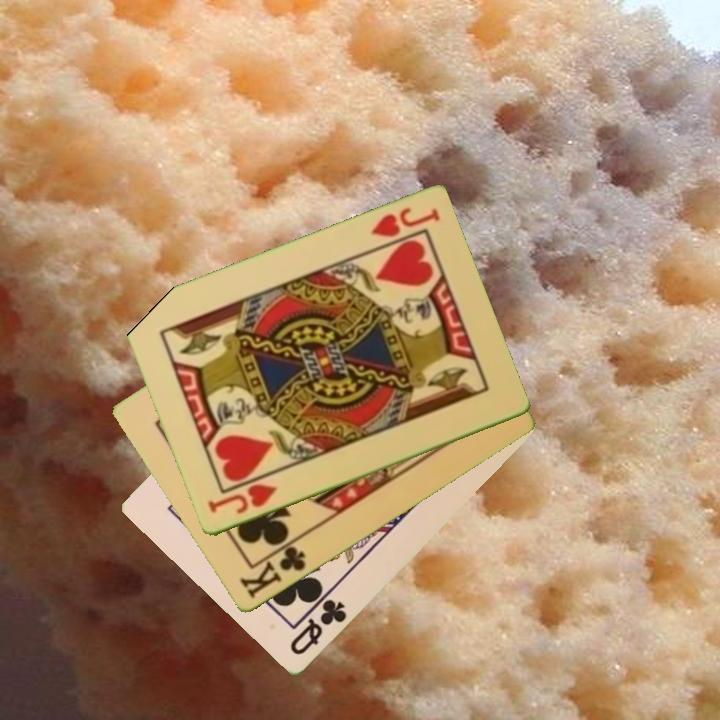Jh: (204, 480, 280, 518), (367, 204, 443, 241)
Kc: (236, 535, 309, 602)
Qc: (286, 587, 350, 659)
